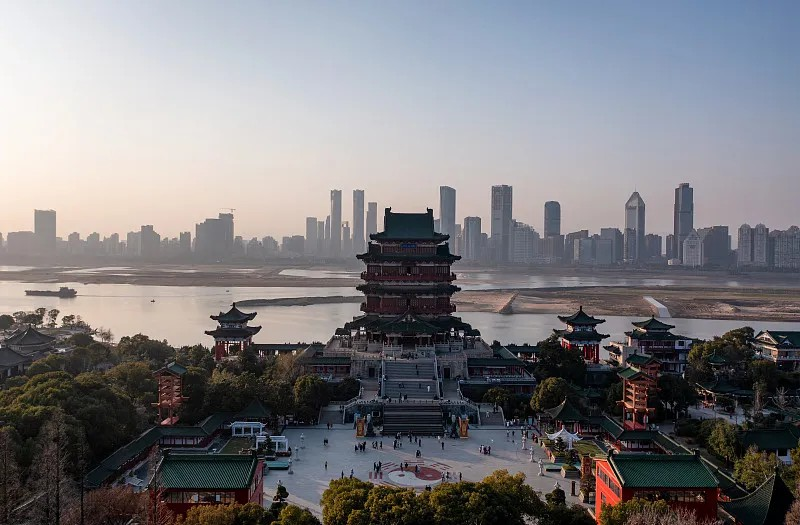Teng: (335, 206, 482, 347)
